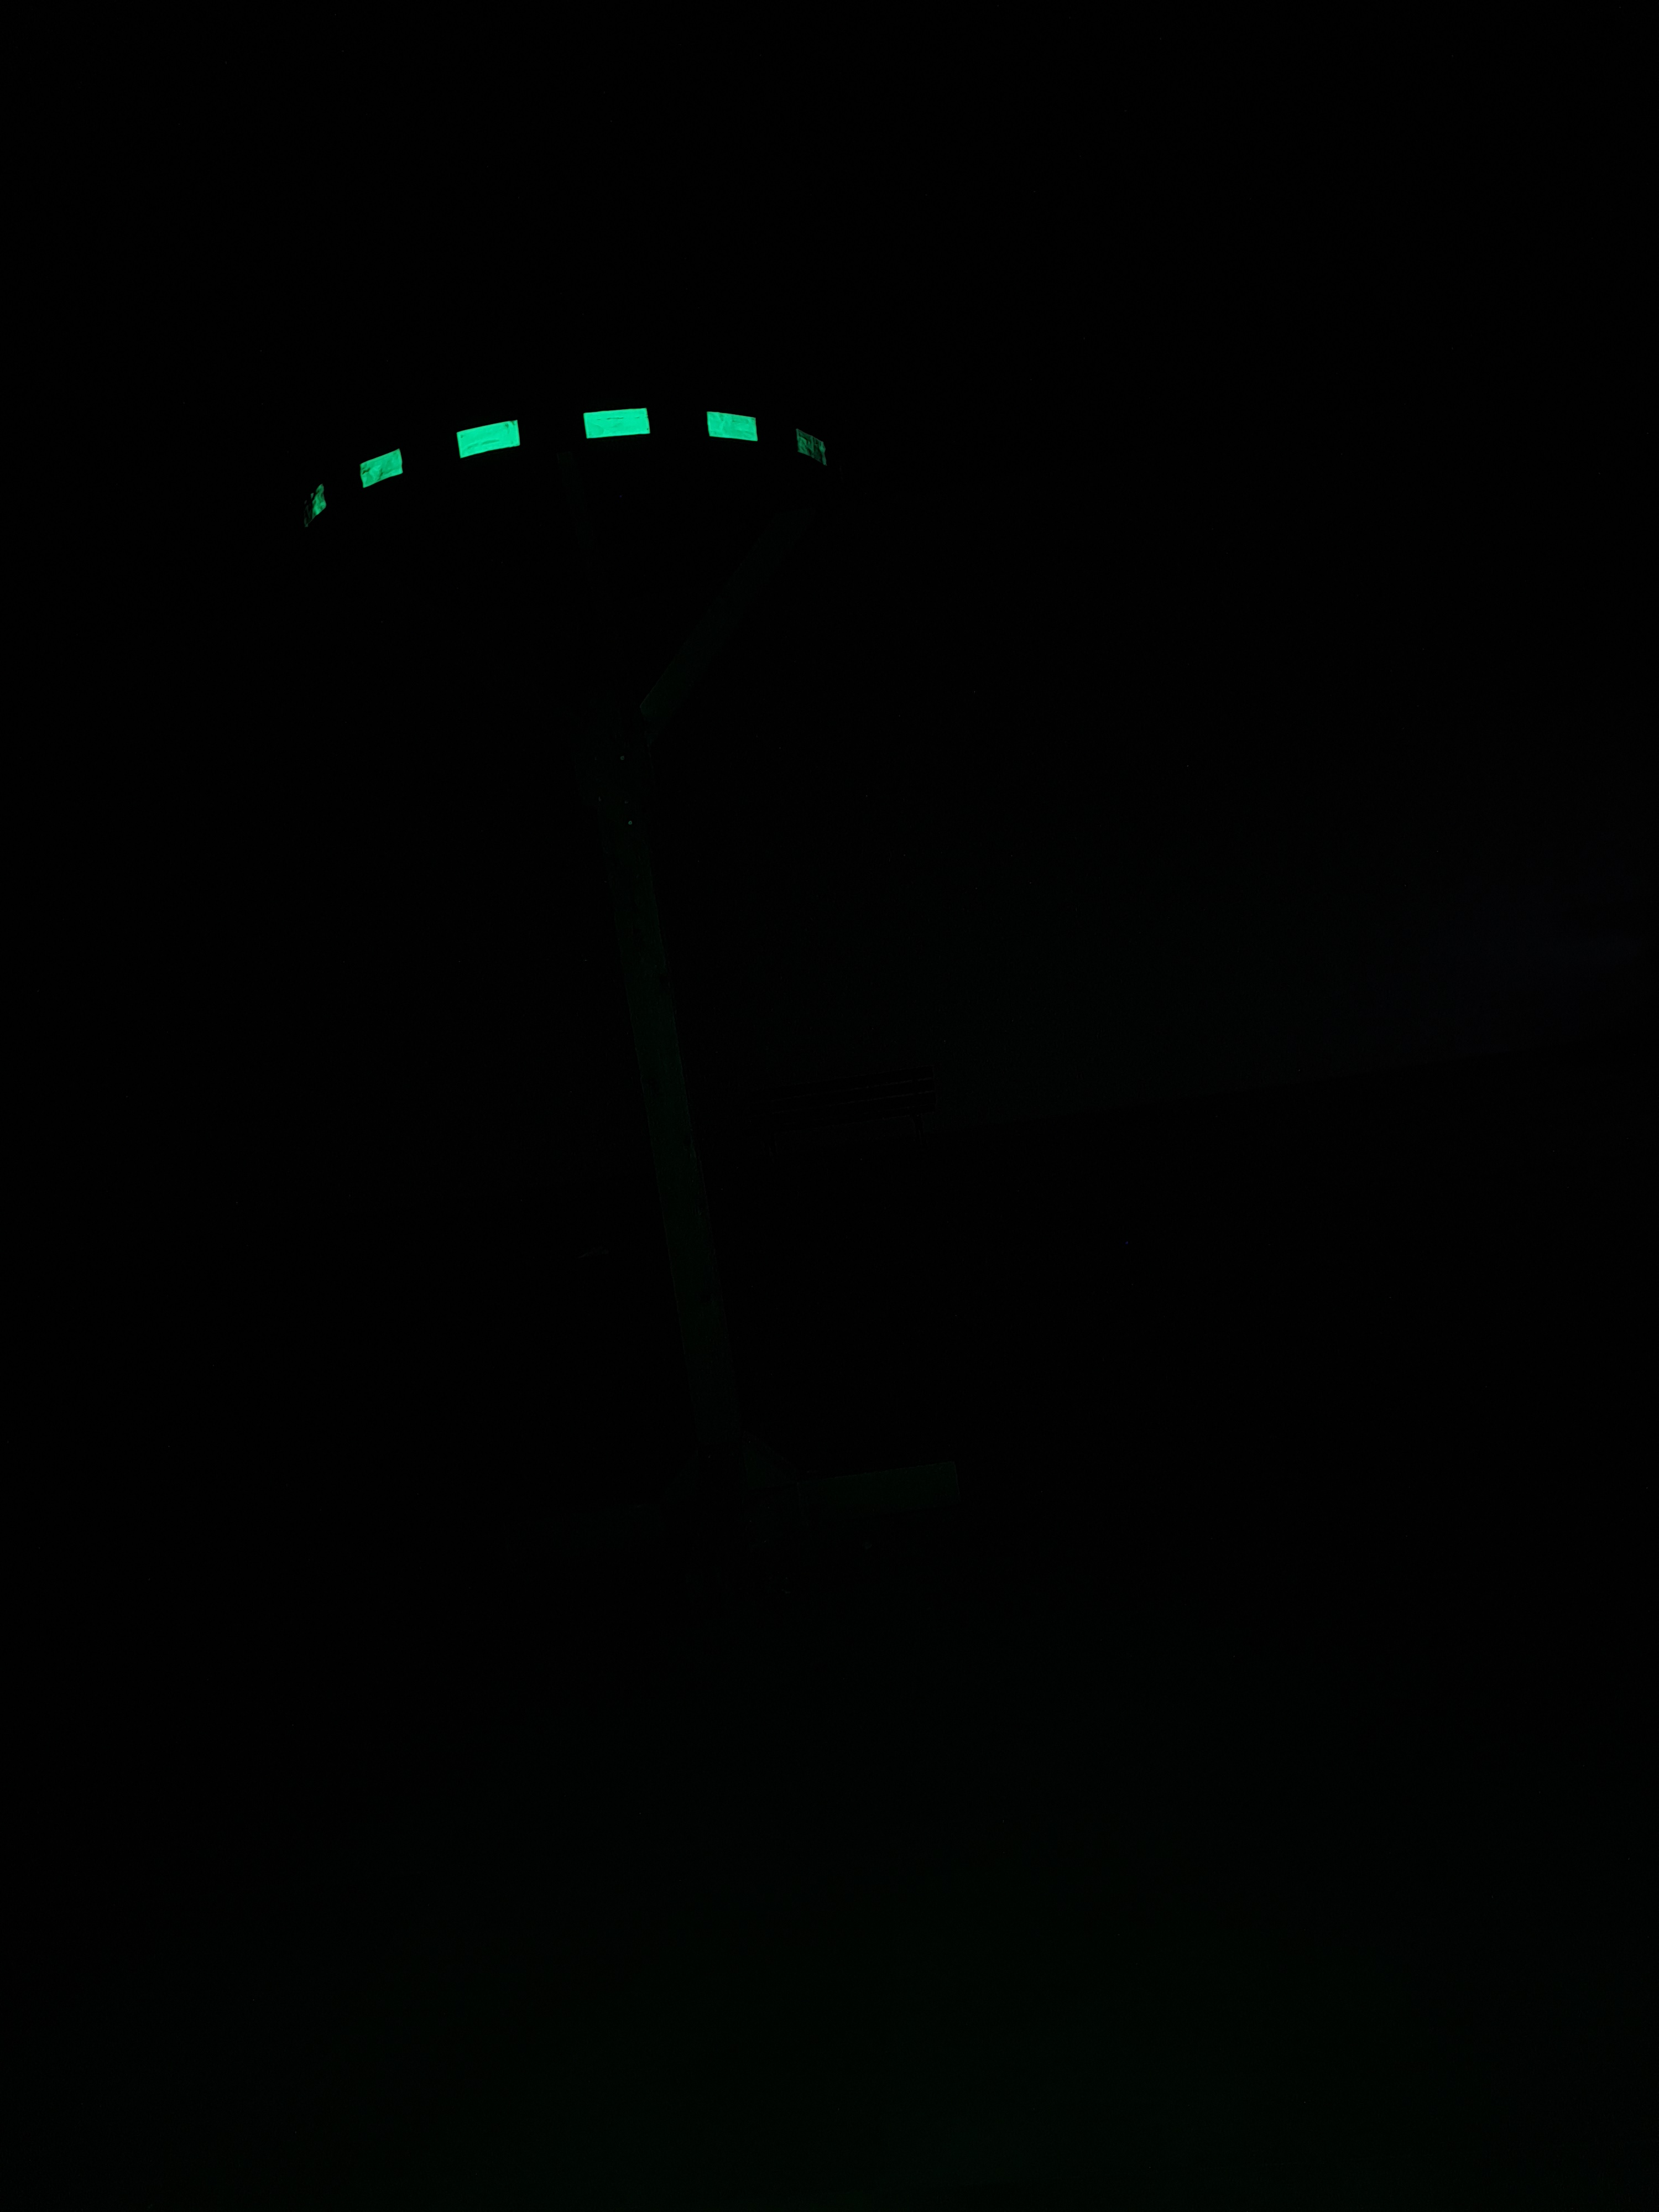hoop: (293, 394, 842, 535)
